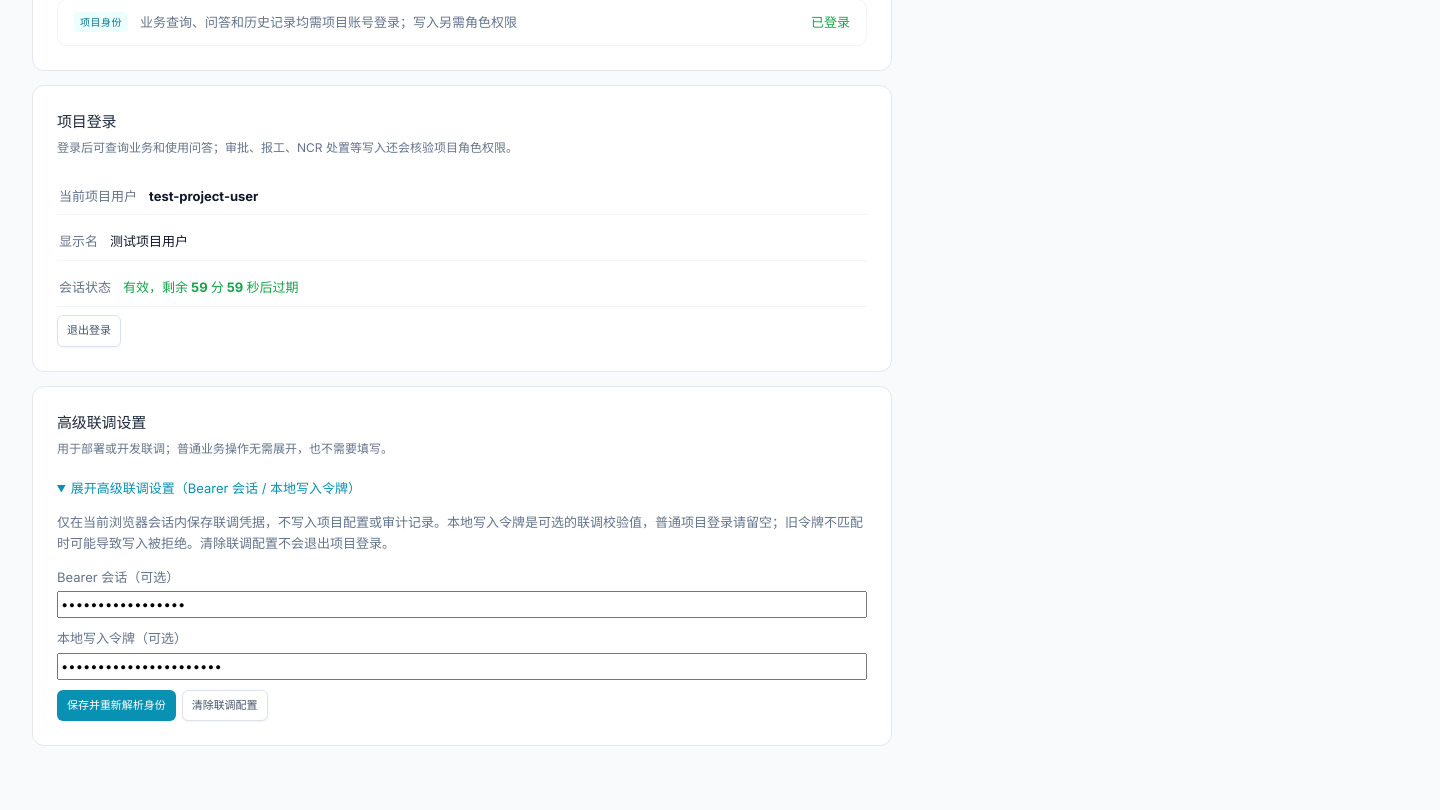
Test: 项目登录与高级联调配置独立操作 › 已登录用户清除联调配置只移除调试令牌，保留项目身份和到期时间
The image size is (1440, 810).
(page scrolled)
Click the button "清除联调配置": (225, 706) [182,690,268,722]
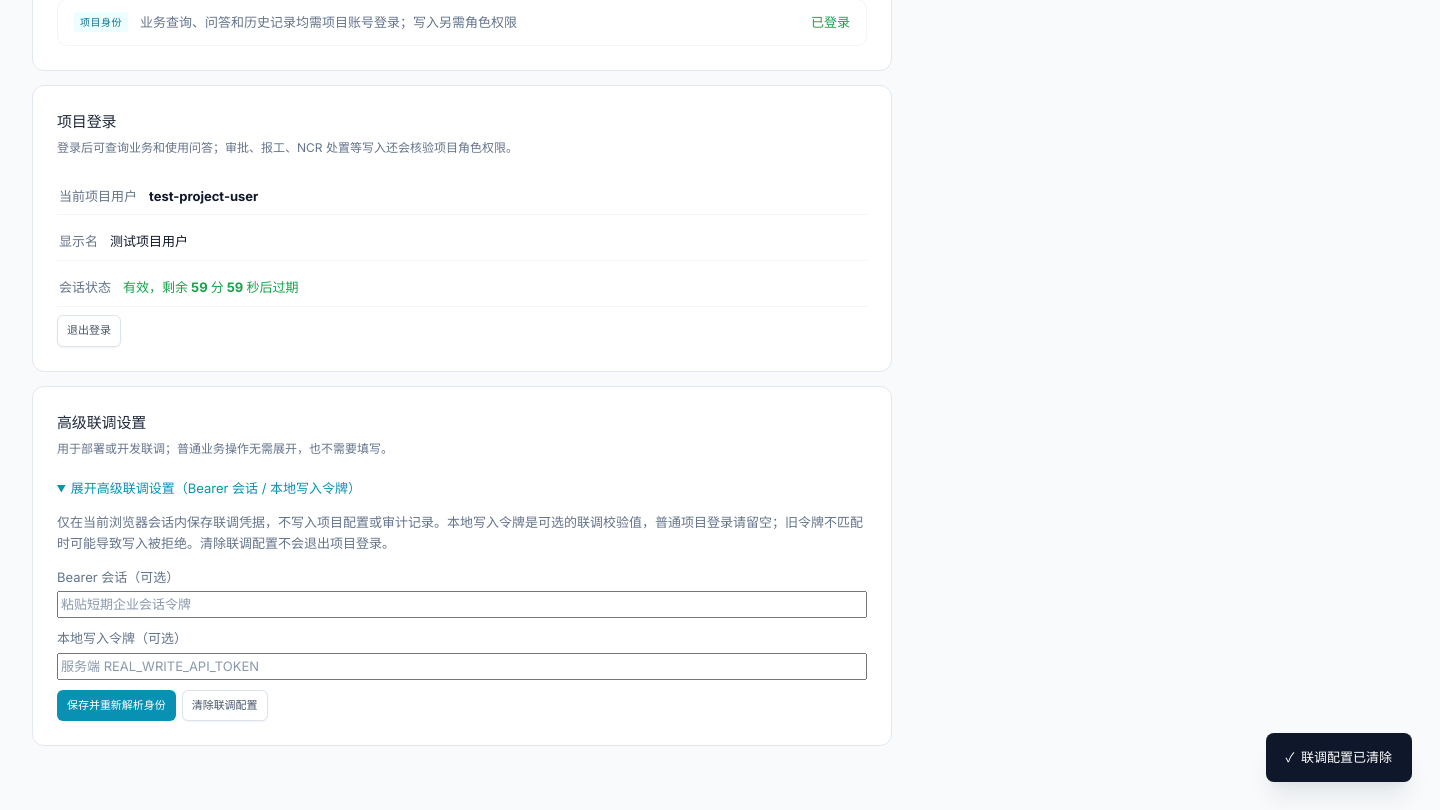
Expected: the text "当前项目用户" is shown, [59,186,137,206]
Expected: the password field with placeholder "粘贴短期企业会话令牌" is empty, [57,592,867,618]
Expected: the password field with placeholder "服务端 REAL_WRITE_API_TOKEN" is empty, [57,653,867,680]
